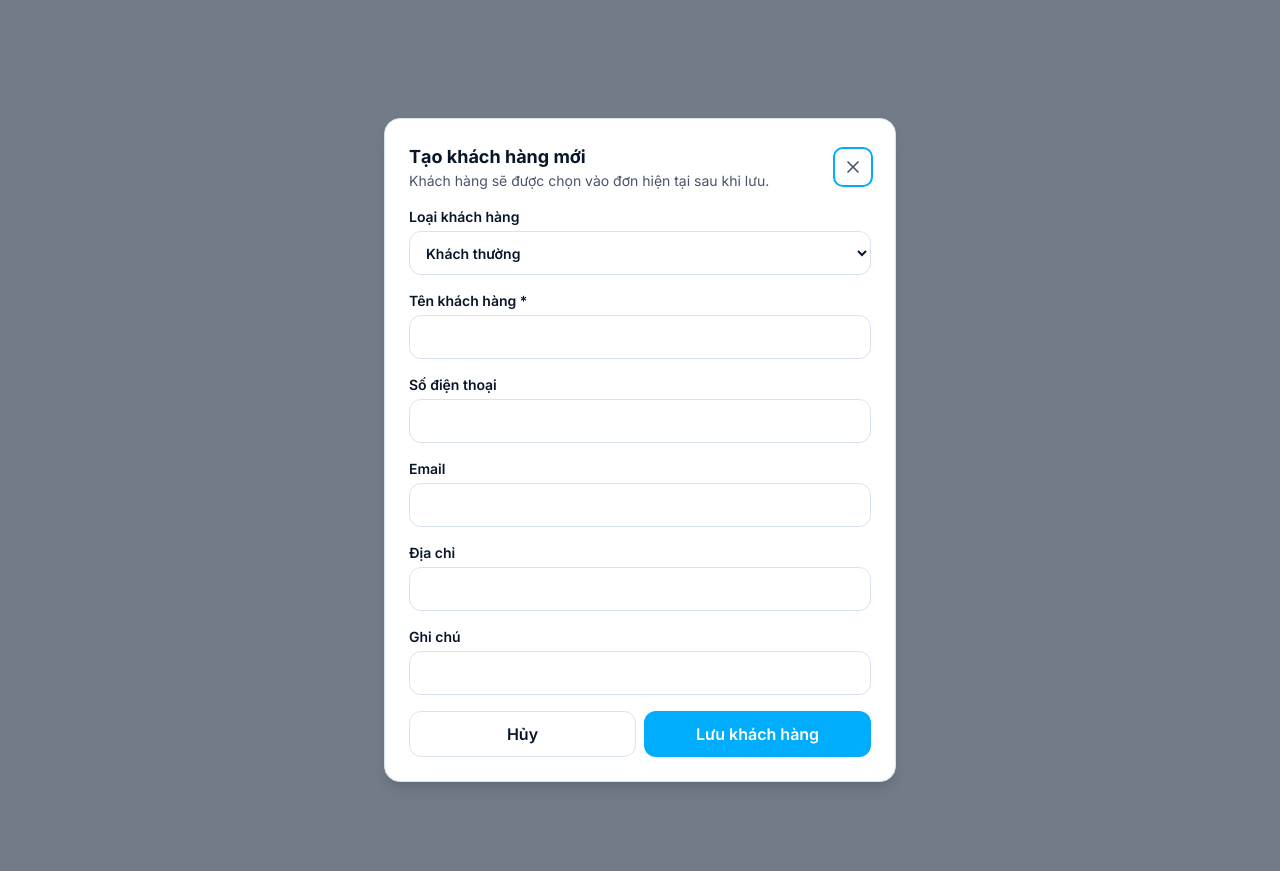
CreateCustomerDialog › validates VAT before creating a customer (123, invoice@example.com)
Step 1. Type "0909123456" into the field labelled "Số điện thoại" → (640, 421), box top-left (409, 399), bottom-right (871, 443)
Step 2. Select "Khách xuất VAT" in the dropdown → (640, 253), box top-left (409, 231), bottom-right (871, 275)
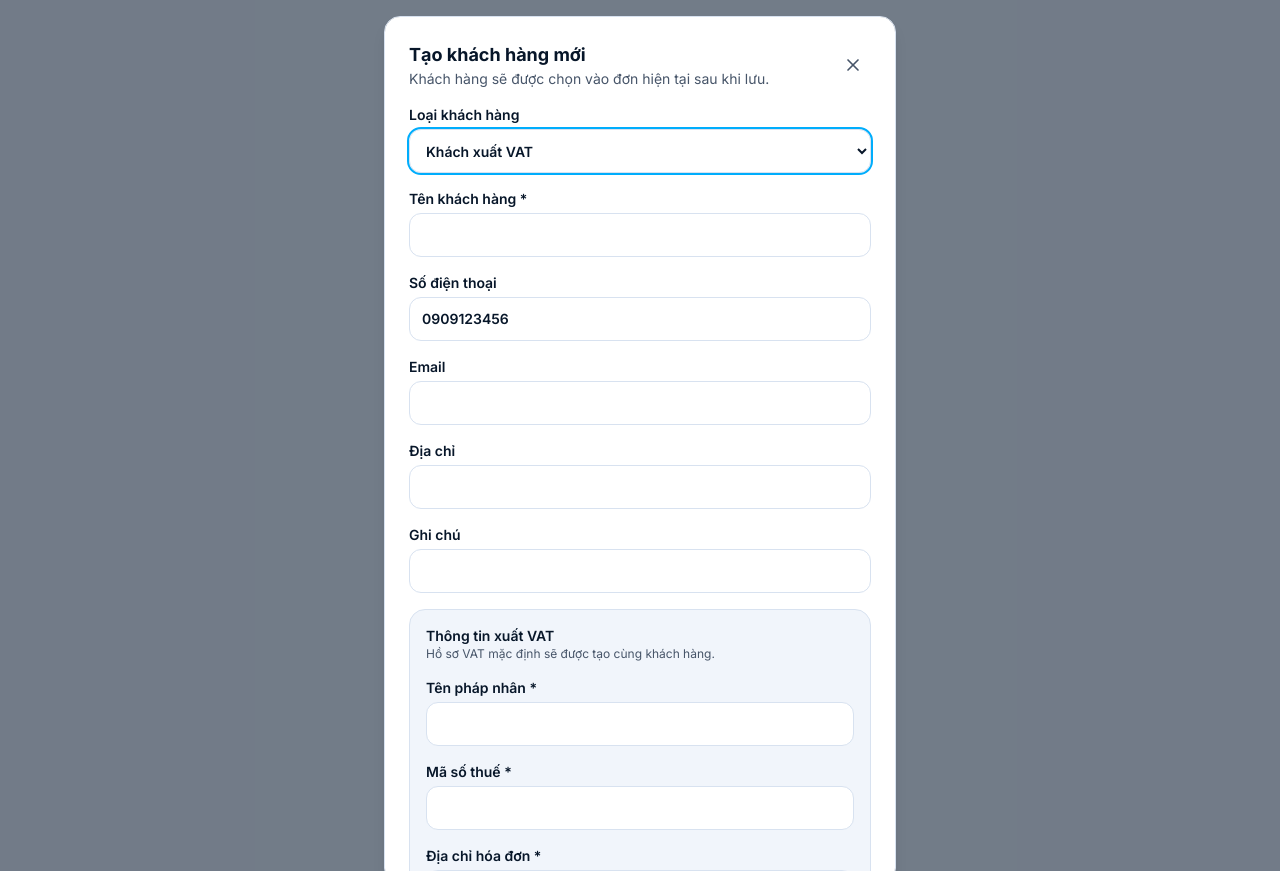
Step 3. Type "Cong ty A" into the field labelled "Tên khách hàng" → (640, 235), box top-left (409, 213), bottom-right (871, 257)
Step 4. Type "Cong ty A" into the field labelled "Tên pháp nhân" → (640, 724), box top-left (426, 702), bottom-right (854, 746)
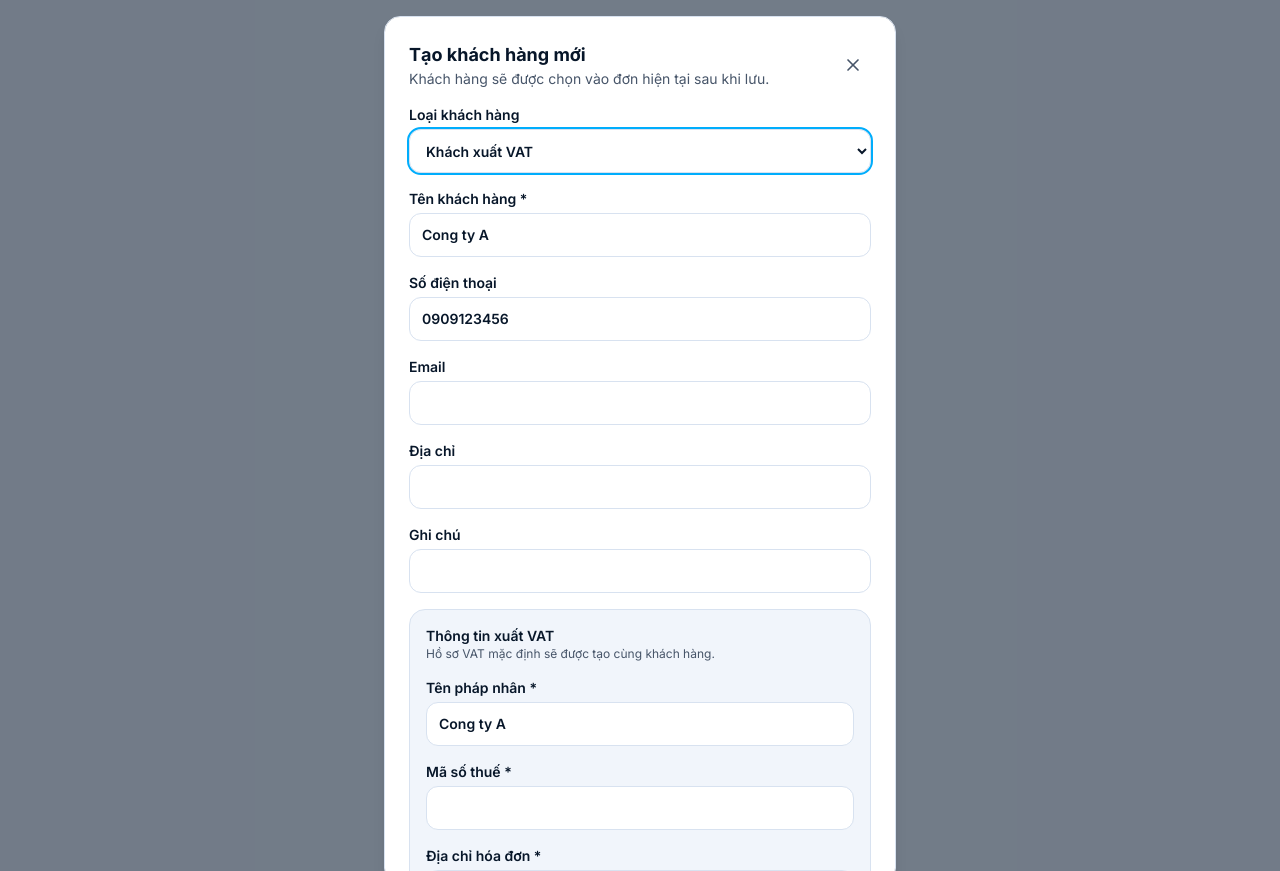
Step 5. Type "123" into the field labelled "Mã số thuế" → (640, 808), box top-left (426, 786), bottom-right (854, 830)
(page scrolled)
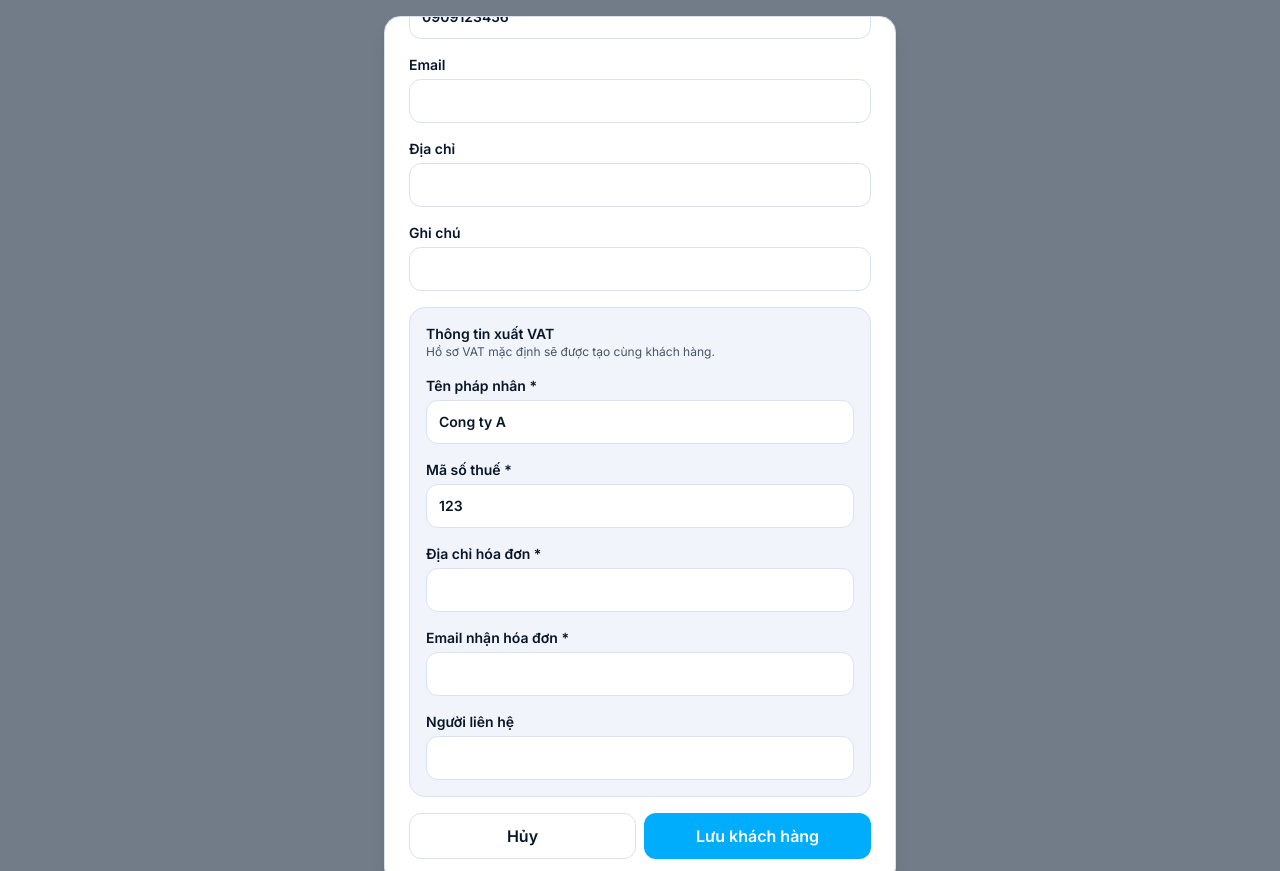
Step 6. Type "1 Nguyen Hue" into the field labelled "Địa chỉ hóa đơn" → (640, 590), box top-left (426, 568), bottom-right (854, 612)
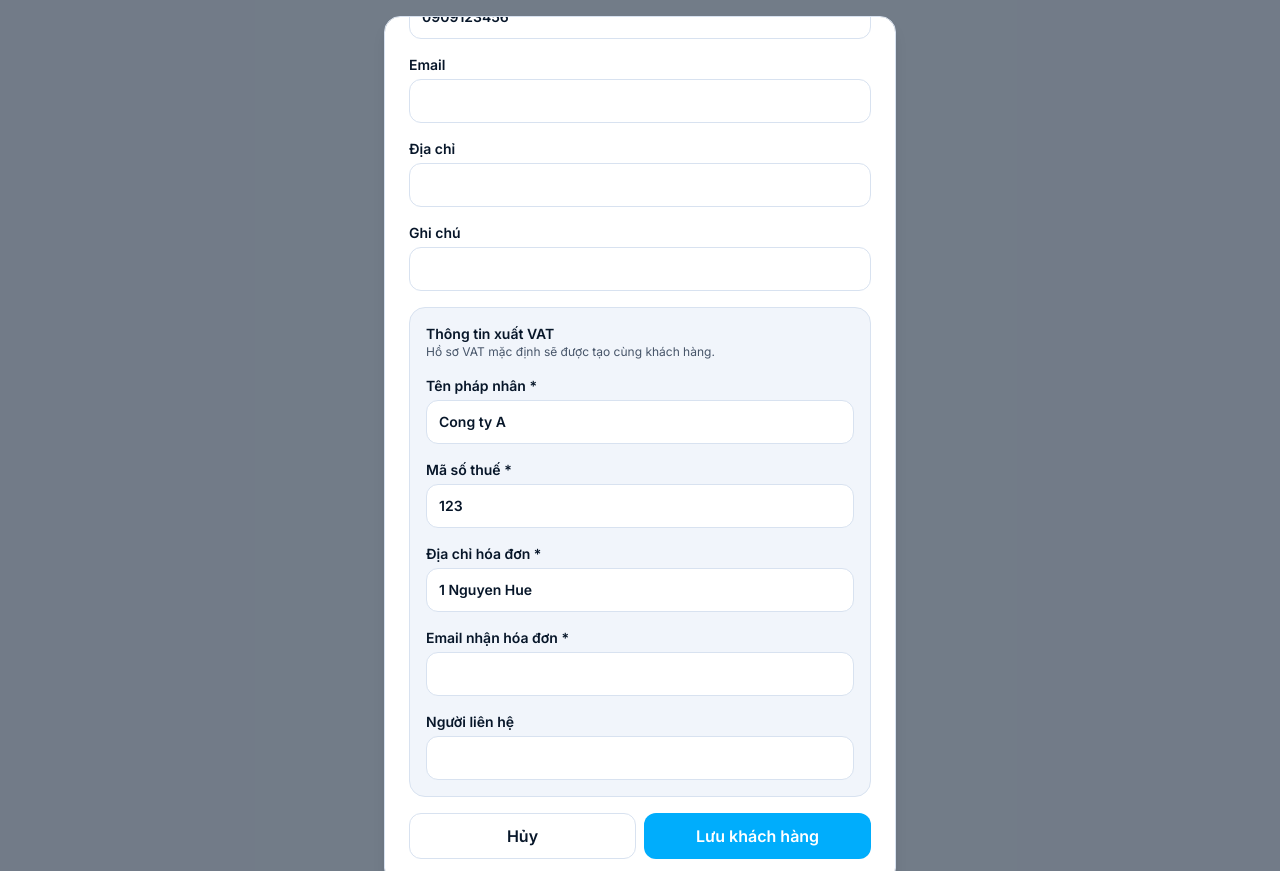
Step 7. Type "invoice@example.com" into the field labelled "Email nhận hóa đơn" → (640, 674), box top-left (426, 652), bottom-right (854, 696)
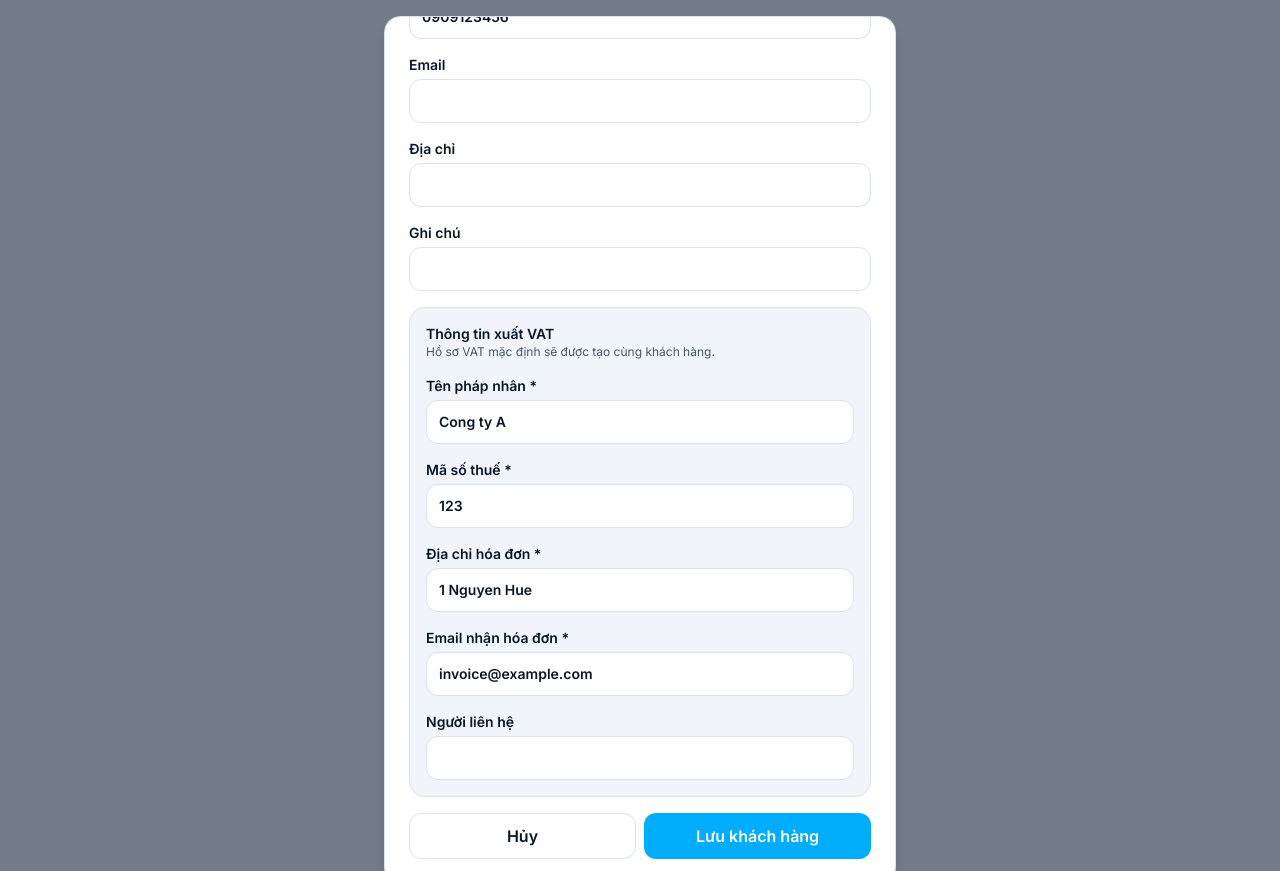
Step 8. Click the button "Lưu khách hàng" → click(758, 836), box top-left (644, 813), bottom-right (871, 859)
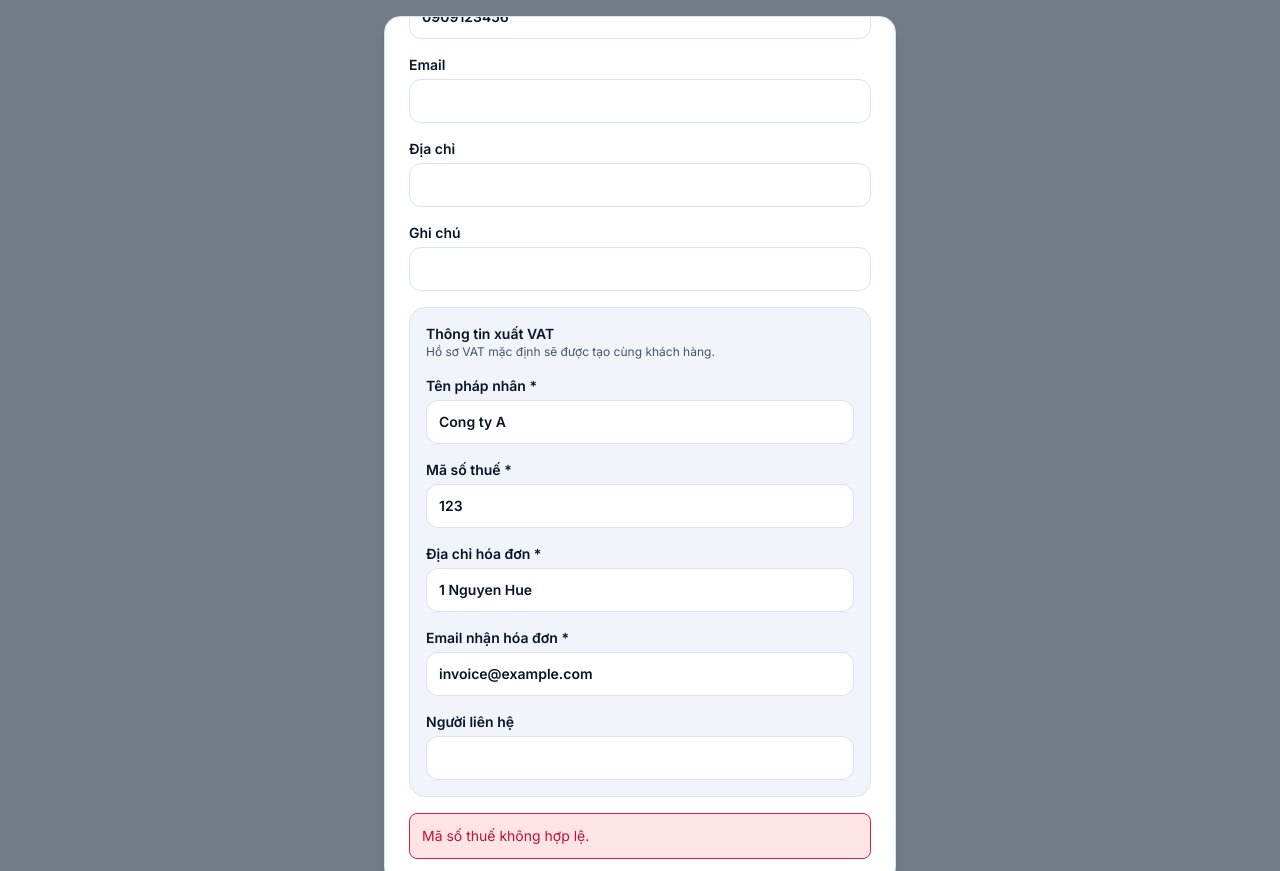
Expected: the message reads "Mã số thuế không hợp lệ.", top-left (422, 827), bottom-right (589, 844)
